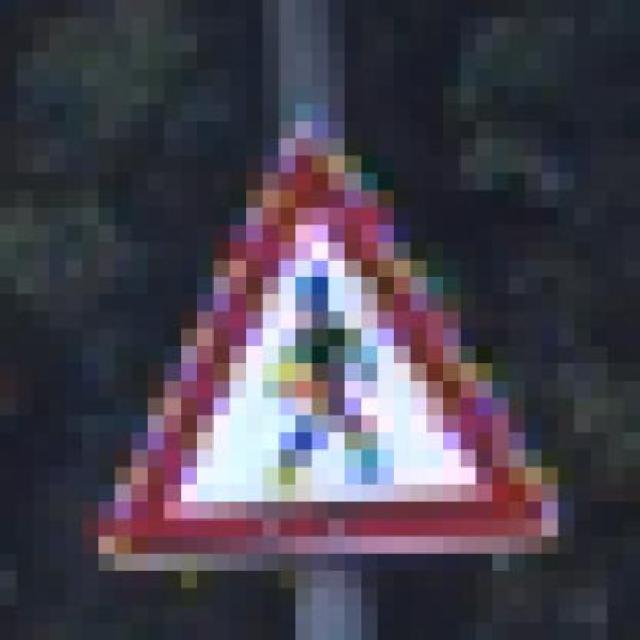Pedestrian Crossing: (82, 121, 575, 588)
